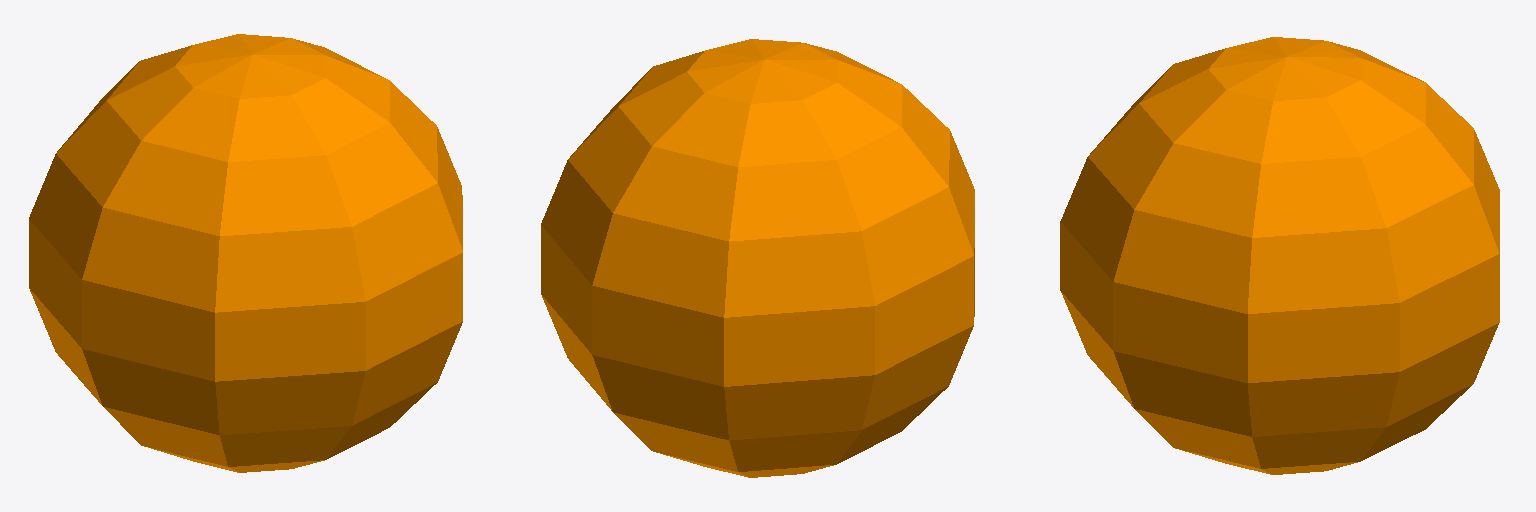
Rendered from Bullet.obj.
3 renders of one model, left to right at view 1: azimuth 30°, elevation 25°; view 2: azimuth 150°, elevation 25°; view 3: azimuth 270°, elevation 25°, orthographic.
Visible parts, largest first — view 1: Bullet; view 2: Bullet; view 3: Bullet.
Boxes of the visible parts, x1,y1,x2,y2 form: Bullet: [29, 34, 462, 472]; Bullet: [541, 39, 974, 477]; Bullet: [1060, 37, 1499, 474].
Bounding box in the file's own units: 0.2 × 0.2 × 0.2.